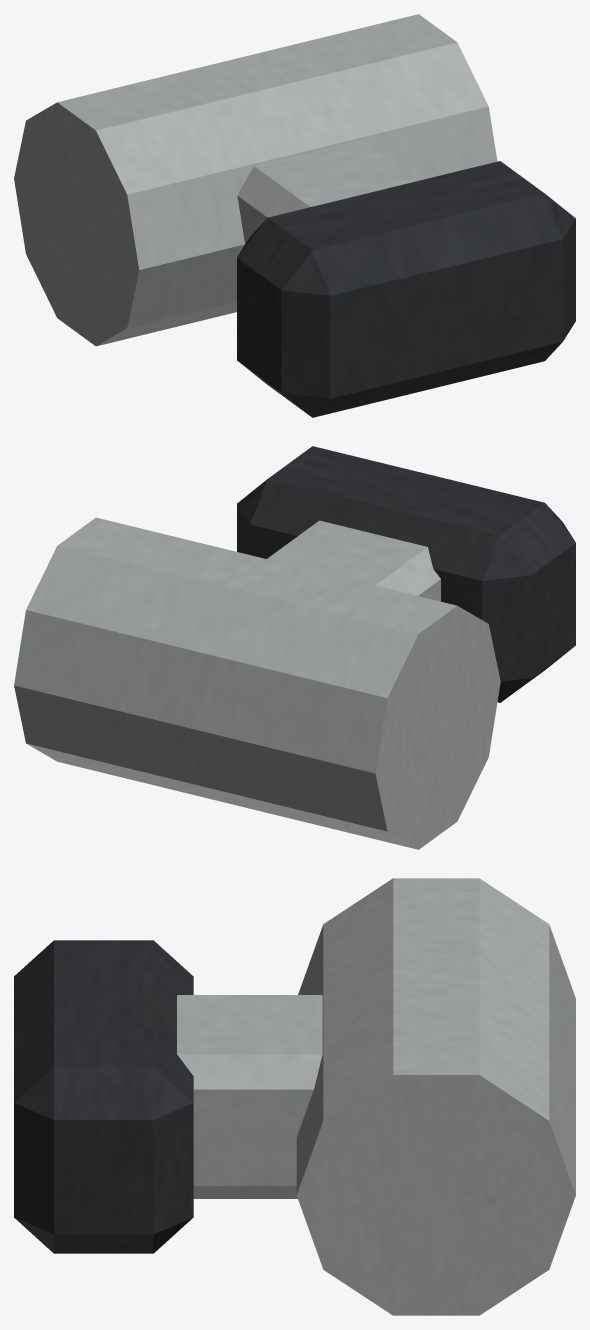
Rendered from electrical_panel_lever.glb.
3 renders of one model, top to bottom at view 1: azimuth 30°, elevation 25°; view 2: azimuth 150°, elevation 25°; view 3: azimuth 270°, elevation 25°, orthographic. The views are drawn at different scales.
Visible parts, largest first — view 1: Electrical Panel Lever | pivot at axle; view 2: Electrical Panel Lever | pivot at axle; view 3: Electrical Panel Lever | pivot at axle.
Boxes of the visible parts, x1=… form: Electrical Panel Lever | pivot at axle: x1=14, y1=14, x2=575, y2=417; Electrical Panel Lever | pivot at axle: x1=14, y1=446, x2=575, y2=849; Electrical Panel Lever | pivot at axle: x1=14, y1=878, x2=575, y2=1315.
Size of the model in its own units: 0.07 by 0.0399 by 0.0845.
1 material, 1 textured.
